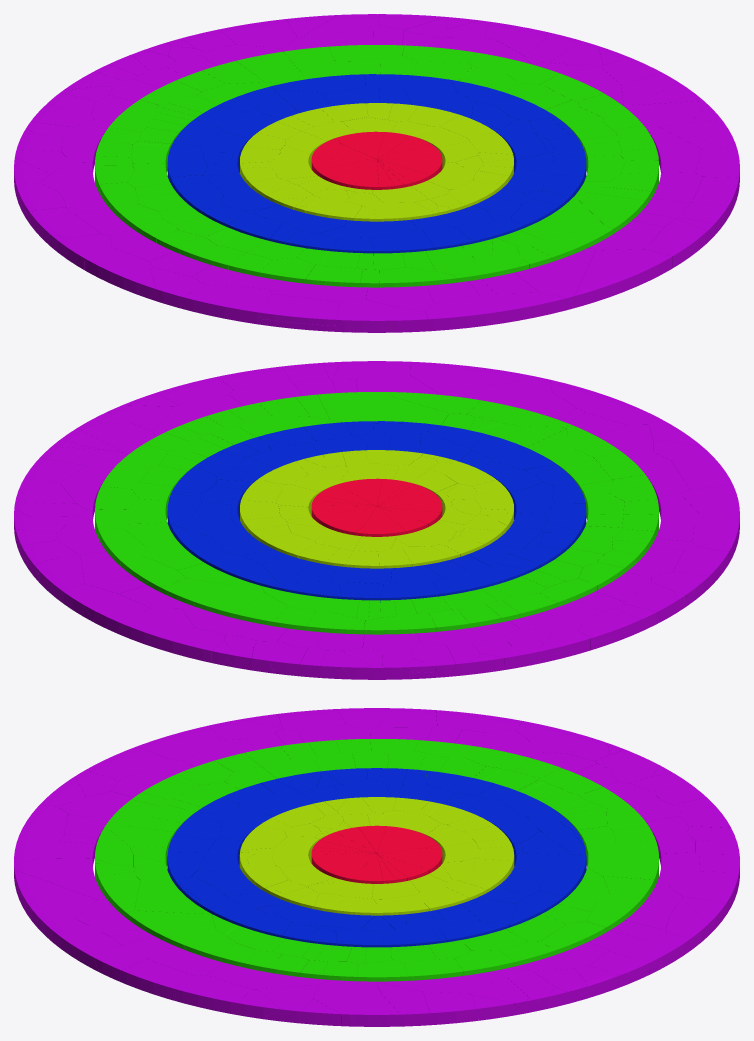
File: DartParticles.fbx
3 views of the same model, one above another, from view 1: azimuth 30°, elevation 25°; view 2: azimuth 150°, elevation 25°; view 3: azimuth 270°, elevation 25° (orthographic).
Visible parts, largest first — view 1: Cylinder.004_cell.092, Cylinder.004_cell.075, Cylinder.004_cell.046, Cylinder.004_cell.001, Cylinder.004_cell.048, Cylinder.003_cell.062, Cylinder.004_cell.078, Cylinder.004_cell.031, Cylinder.004_cell.069, Cylinder.004_cell.084, Cylinder.003_cell.068, Cylinder.004_cell.034 (+141 smaller); view 2: Cylinder.004_cell.075, Cylinder.004_cell.034, Cylinder.004_cell.092, Cylinder.004_cell.001, Cylinder.003_cell.062, Cylinder.004_cell.046, Cylinder.004_cell.077, Cylinder.003_cell.002, Cylinder.004_cell.012, Cylinder.004_cell.069, Cylinder.004_cell.048, Cylinder.004_cell.051 (+155 smaller); view 3: Cylinder.004_cell.075, Cylinder.004_cell.001, Cylinder.004_cell.092, Cylinder.004_cell.085, Cylinder.004_cell.059, Cylinder.004_cell.034, Cylinder.003_cell.062, Cylinder.004_cell.078, Cylinder.004_cell.012, Cylinder.004_cell.069, Cylinder.003_cell.068, Cylinder.004_cell.046 (+149 smaller).
Boxes of the visible parts, left/top/right/bottom form: Cylinder.004_cell.092: left=425, top=292, right=567, bottom=331; Cylinder.004_cell.075: left=574, top=249, right=672, bottom=307; Cylinder.004_cell.046: left=180, top=285, right=271, bottom=324; Cylinder.004_cell.001: left=514, top=248, right=595, bottom=310; Cylinder.004_cell.048: left=261, top=294, right=340, bottom=325; Cylinder.003_cell.062: left=520, top=196, right=605, bottom=239; Cylinder.004_cell.078: left=645, top=219, right=707, bottom=267; Cylinder.004_cell.031: left=353, top=306, right=428, bottom=332; Cylinder.004_cell.069: left=643, top=124, right=701, bottom=172; Cylinder.004_cell.084: left=85, top=247, right=152, bottom=289; Cylinder.003_cell.068: left=575, top=192, right=645, bottom=233; Cylinder.004_cell.034: left=219, top=19, right=297, bottom=48; Cylinder.004_cell.075: left=410, top=361, right=541, bottom=392; Cylinder.004_cell.034: left=118, top=608, right=194, bottom=653; Cylinder.004_cell.092: left=549, top=379, right=661, bottom=424; Cylinder.004_cell.001: left=437, top=378, right=552, bottom=409; Cylinder.003_cell.062: left=345, top=396, right=448, bottom=425; Cylinder.004_cell.046: left=680, top=484, right=739, bottom=529; Cylinder.004_cell.077: left=59, top=455, right=127, bottom=519; Cylinder.003_cell.002: left=194, top=583, right=264, bottom=618; Cylinder.004_cell.012: left=77, top=422, right=155, bottom=453; Cylinder.004_cell.069: left=153, top=395, right=242, bottom=436; Cylinder.004_cell.048: left=671, top=453, right=732, bottom=489; Cylinder.004_cell.051: left=629, top=452, right=688, bottom=498; Cylinder.004_cell.075: left=14, top=870, right=96, bottom=936; Cylinder.004_cell.001: left=14, top=858, right=106, bottom=899; Cylinder.004_cell.092: left=14, top=804, right=68, bottom=865; Cylinder.004_cell.085: left=174, top=975, right=251, bottom=1014; Cylinder.004_cell.059: left=119, top=959, right=193, bottom=1000; Cylinder.004_cell.034: left=668, top=871, right=738, bottom=913; Cylinder.003_cell.062: left=134, top=877, right=211, bottom=914; Cylinder.004_cell.078: left=47, top=918, right=120, bottom=962; Cylinder.004_cell.012: left=312, top=980, right=376, bottom=1026; Cylinder.004_cell.069: left=206, top=963, right=331, bottom=989; Cylinder.003_cell.068: left=125, top=910, right=212, bottom=942; Cylinder.004_cell.046: left=137, top=725, right=220, bottom=760.
Bounding box in the file's own units: 11.09 × 0.5146 × 11.09.
